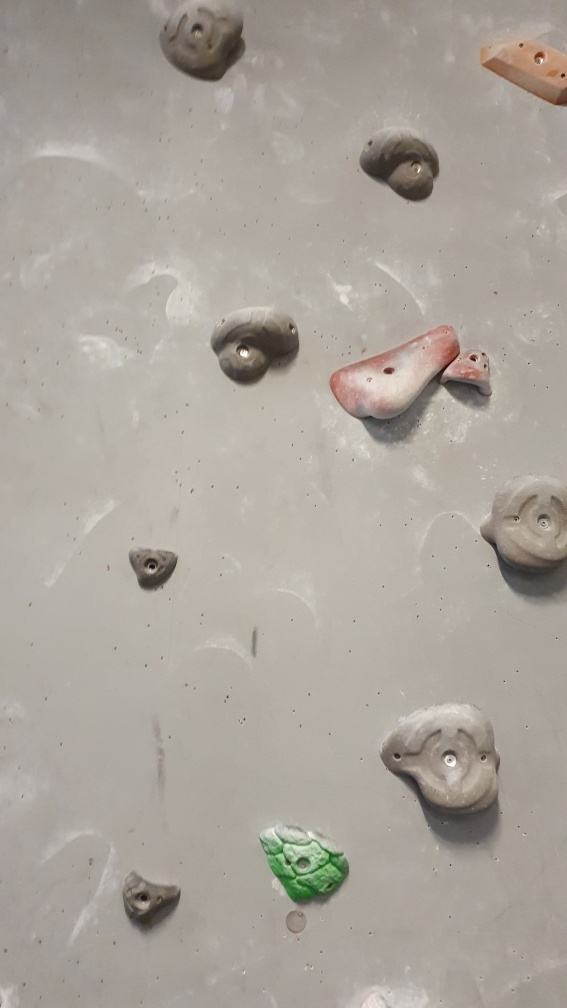Crimp: (125, 542, 185, 593)
Hand Start: (283, 907, 312, 938)
Jug: (377, 701, 508, 818), (476, 474, 567, 575), (154, 1, 248, 84), (208, 305, 301, 388), (358, 123, 443, 203)
Pinch: (476, 28, 567, 110)
